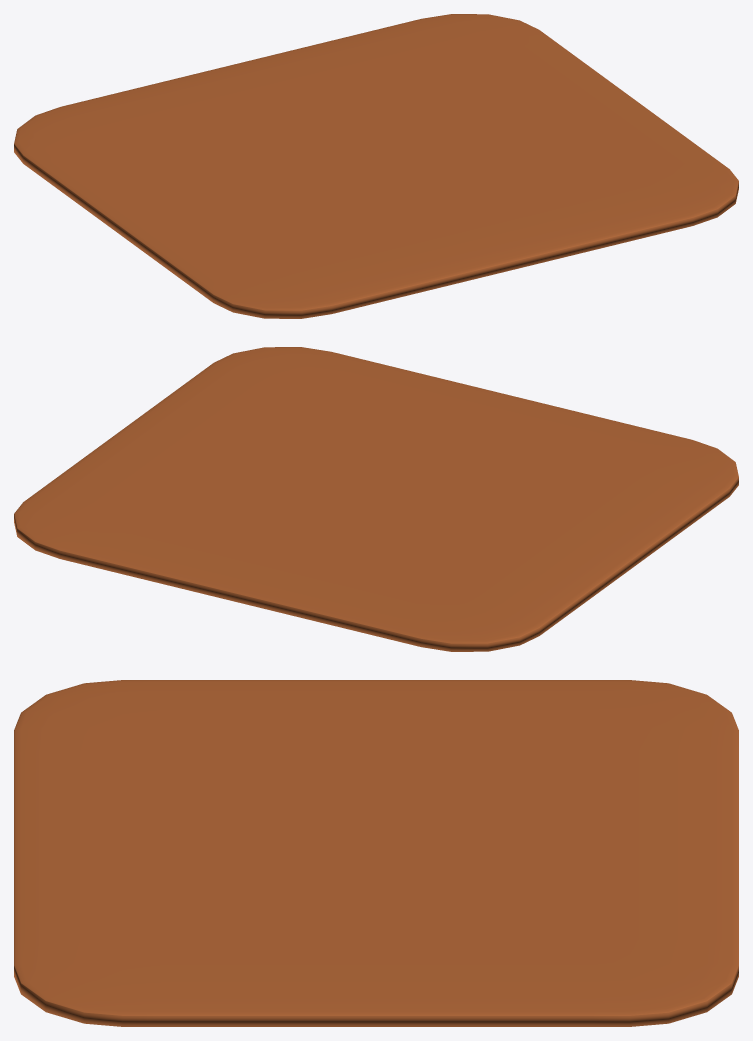
3 renders of one model, top to bottom at view 1: azimuth 30°, elevation 25°; view 2: azimuth 150°, elevation 25°; view 3: azimuth 270°, elevation 25°, orthographic. The views are drawn at different scales.
Visible parts, largest first — view 1: Roundcube; view 2: Roundcube; view 3: Roundcube.
Part boxes in pixels (x1=…): Roundcube: x1=14, y1=14, x2=738, y2=318; Roundcube: x1=14, y1=347, x2=738, y2=651; Roundcube: x1=14, y1=680, x2=738, y2=1026.
Bounding box in the file's own units: 5906 × 135 × 5388.
